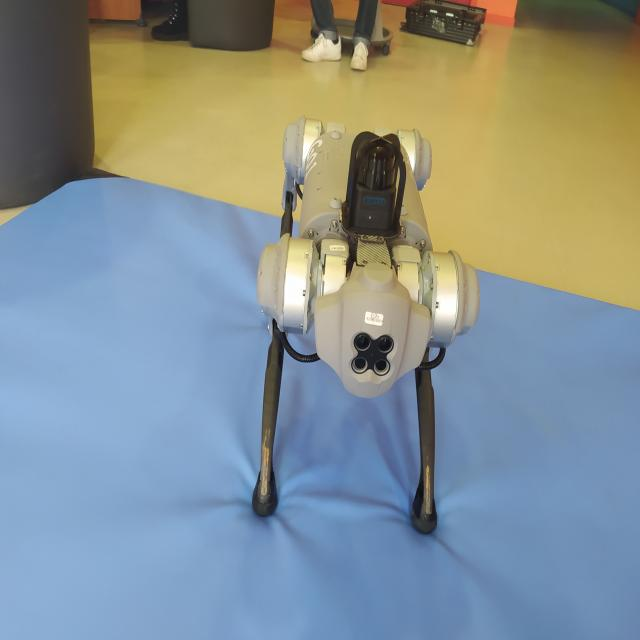unitree-go1-robot: (247, 100, 490, 557)
